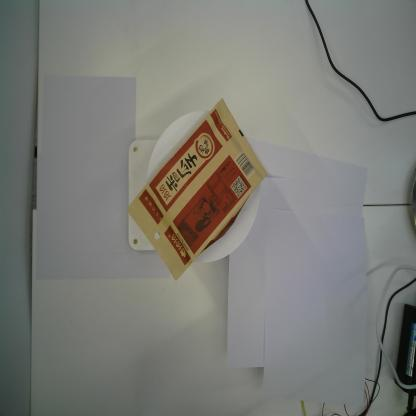Dried Food: (122, 96, 268, 284)
